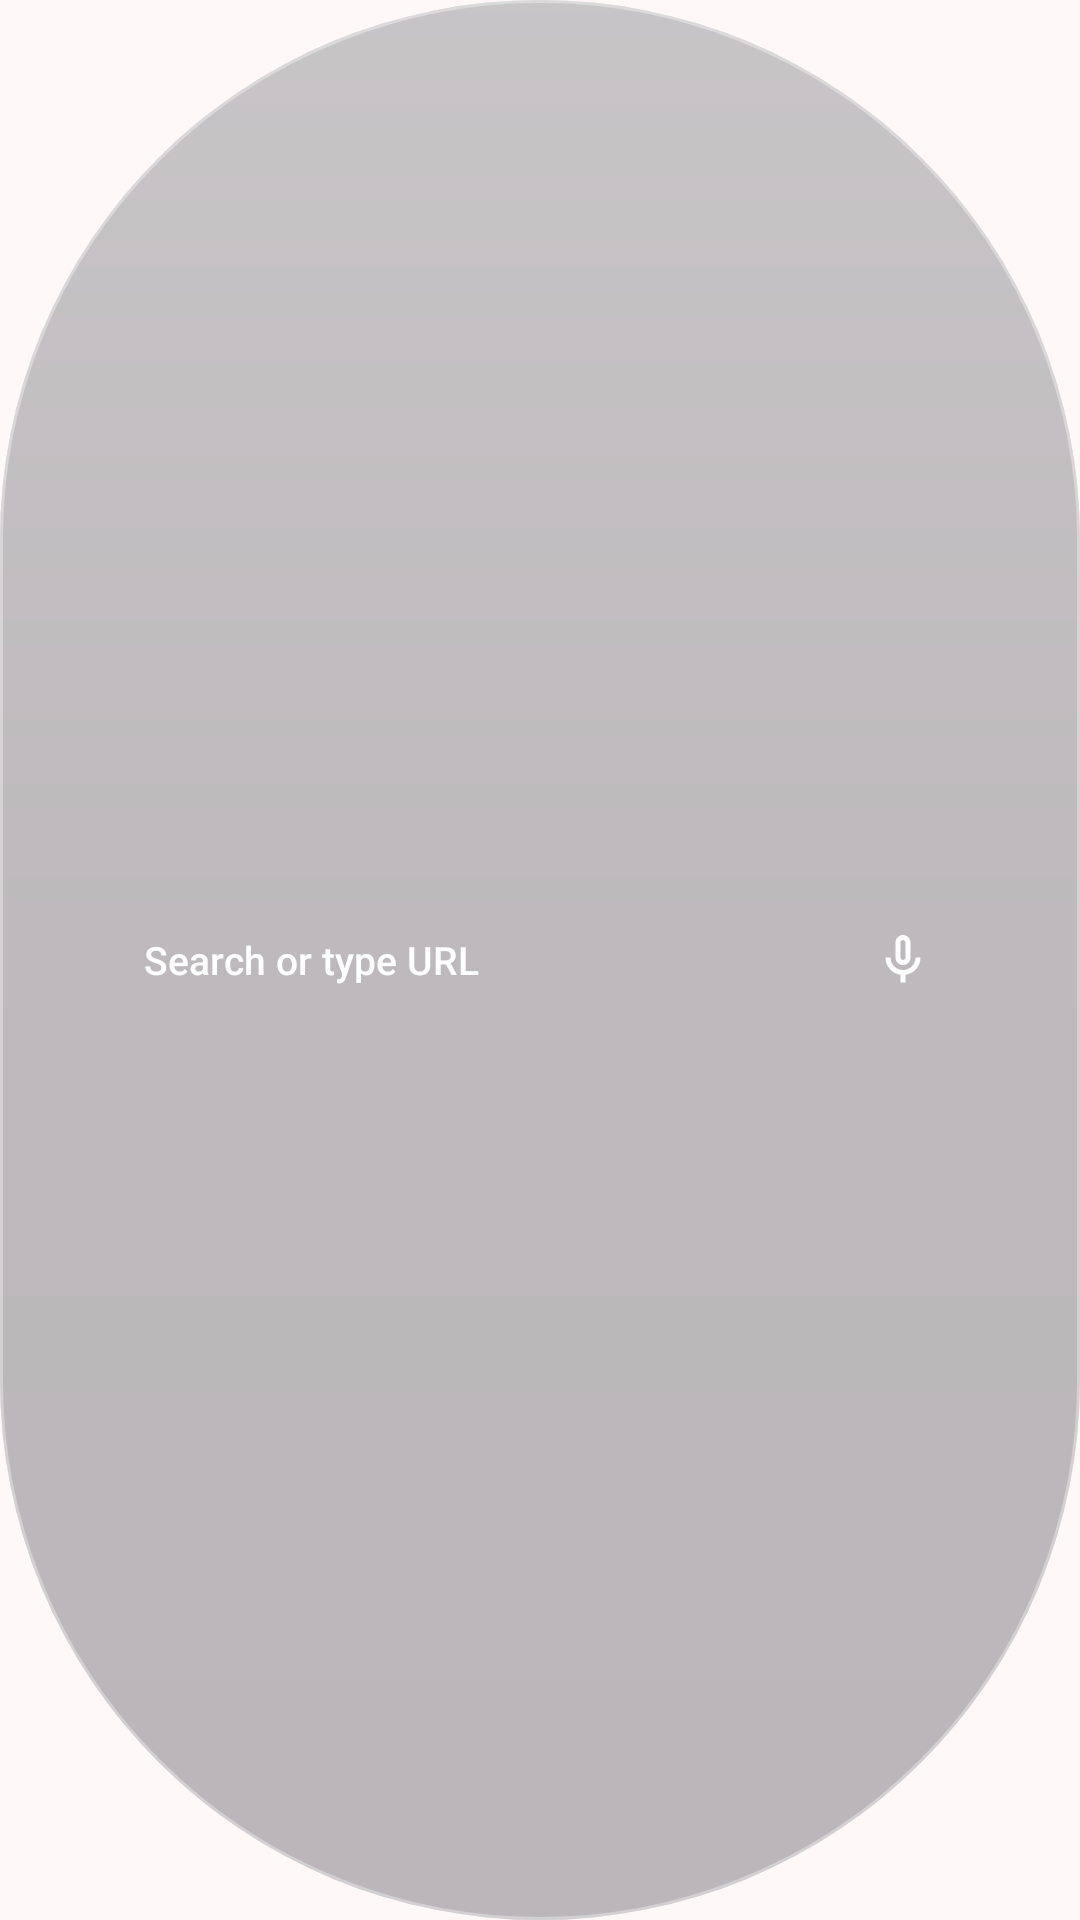

Named icons in this screenshot (1080w x 1920h) and their centers, (x,y):
Voice Search: (903,959)
